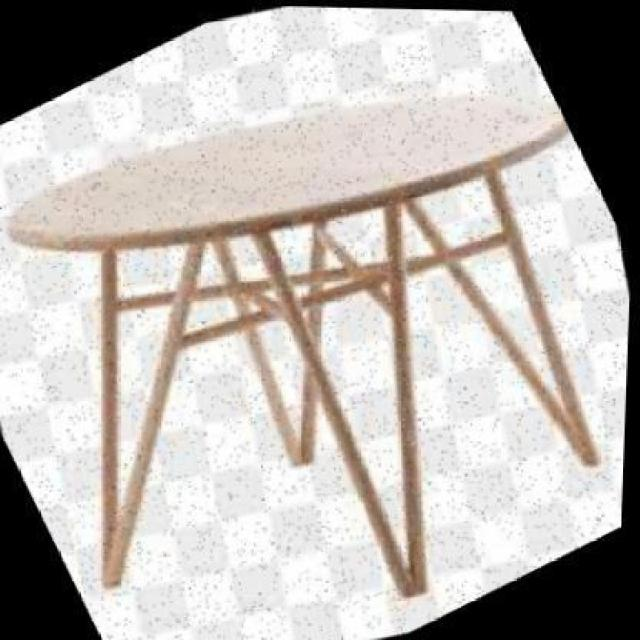tables: (3, 87, 602, 598)
